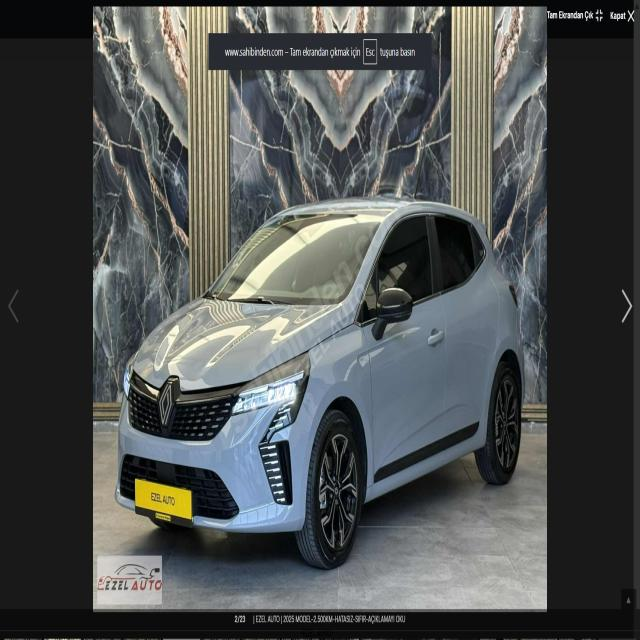renault: (152, 371, 180, 433)
